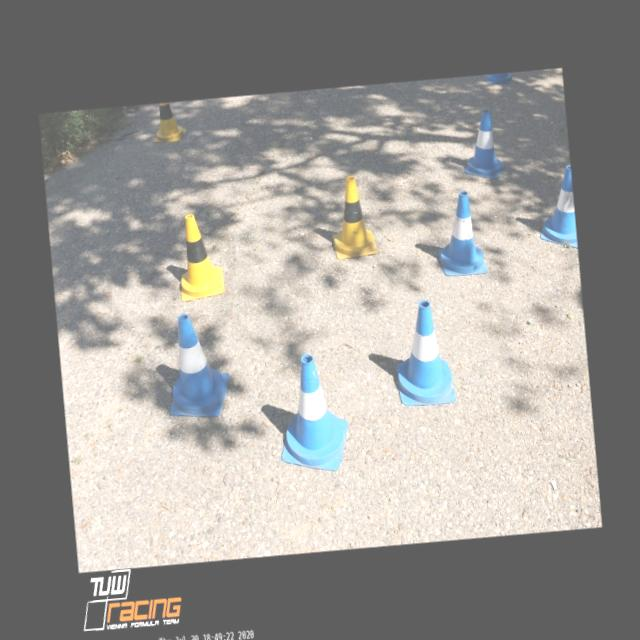blue_cone: (273, 351, 351, 474), (161, 310, 232, 420), (392, 297, 456, 406), (432, 189, 488, 277), (533, 164, 577, 252), (459, 108, 505, 182)
yellow_cone: (173, 212, 224, 302), (327, 174, 378, 258), (149, 101, 187, 144)
